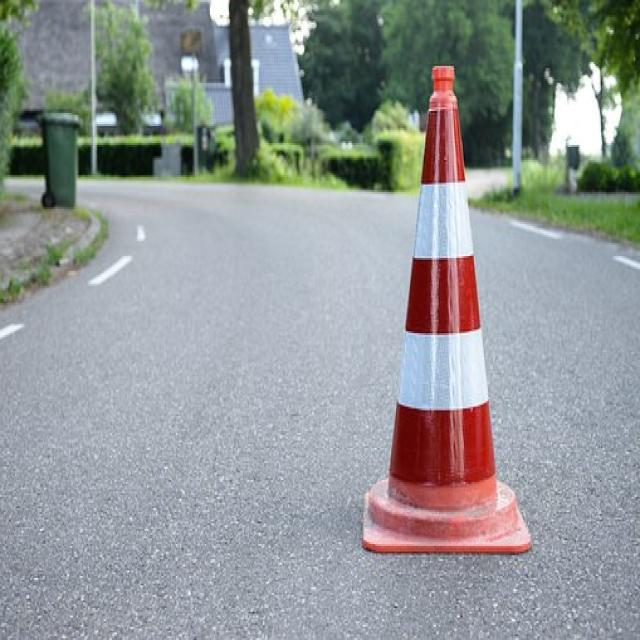cone: (355, 62, 532, 566)
